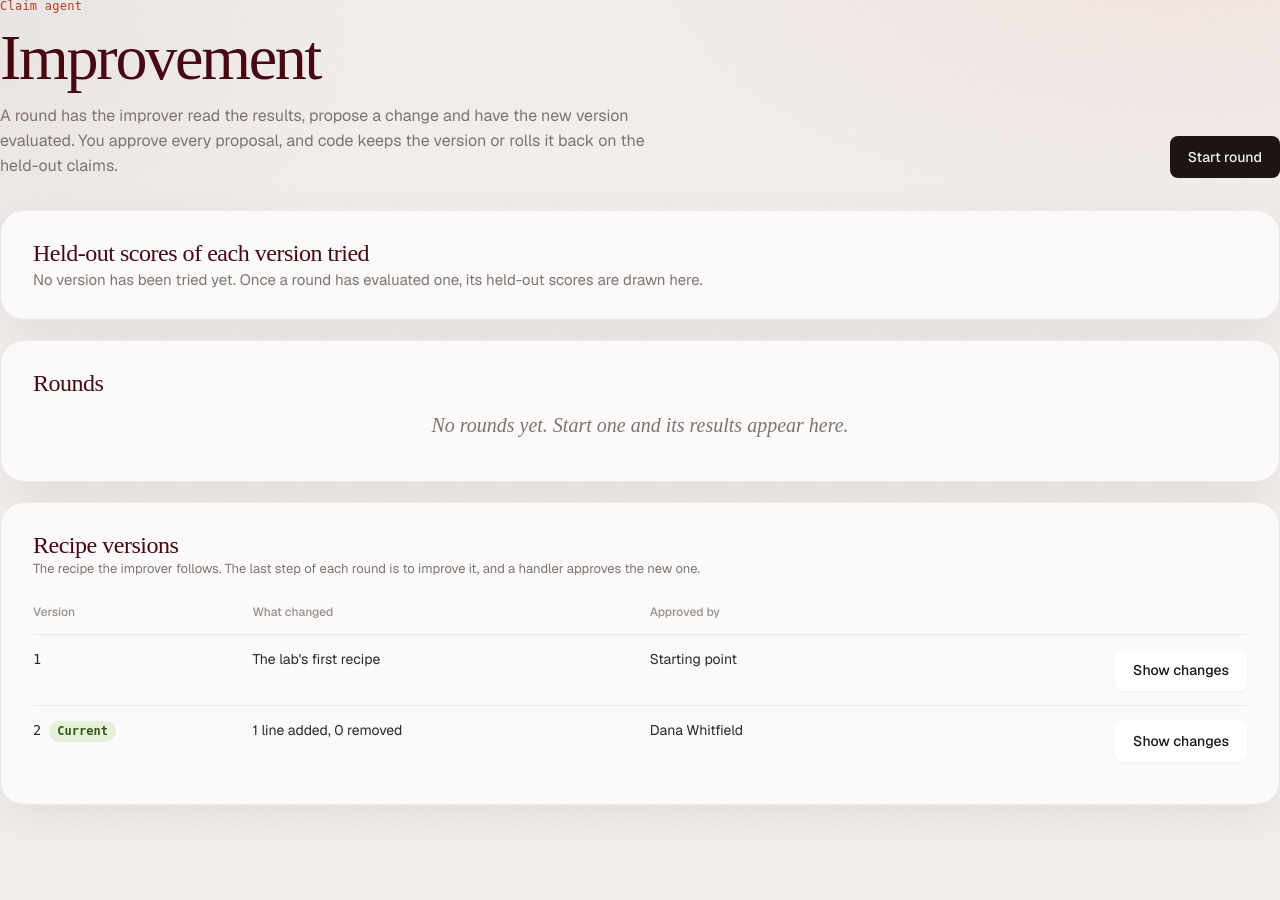
Improvement › starts a round after the confirmation
The image size is (1280, 900).
Later steps or results of the test are not shown.
Click the button "Start round".
click(1225, 157)  # box [1170, 136, 1279, 178]
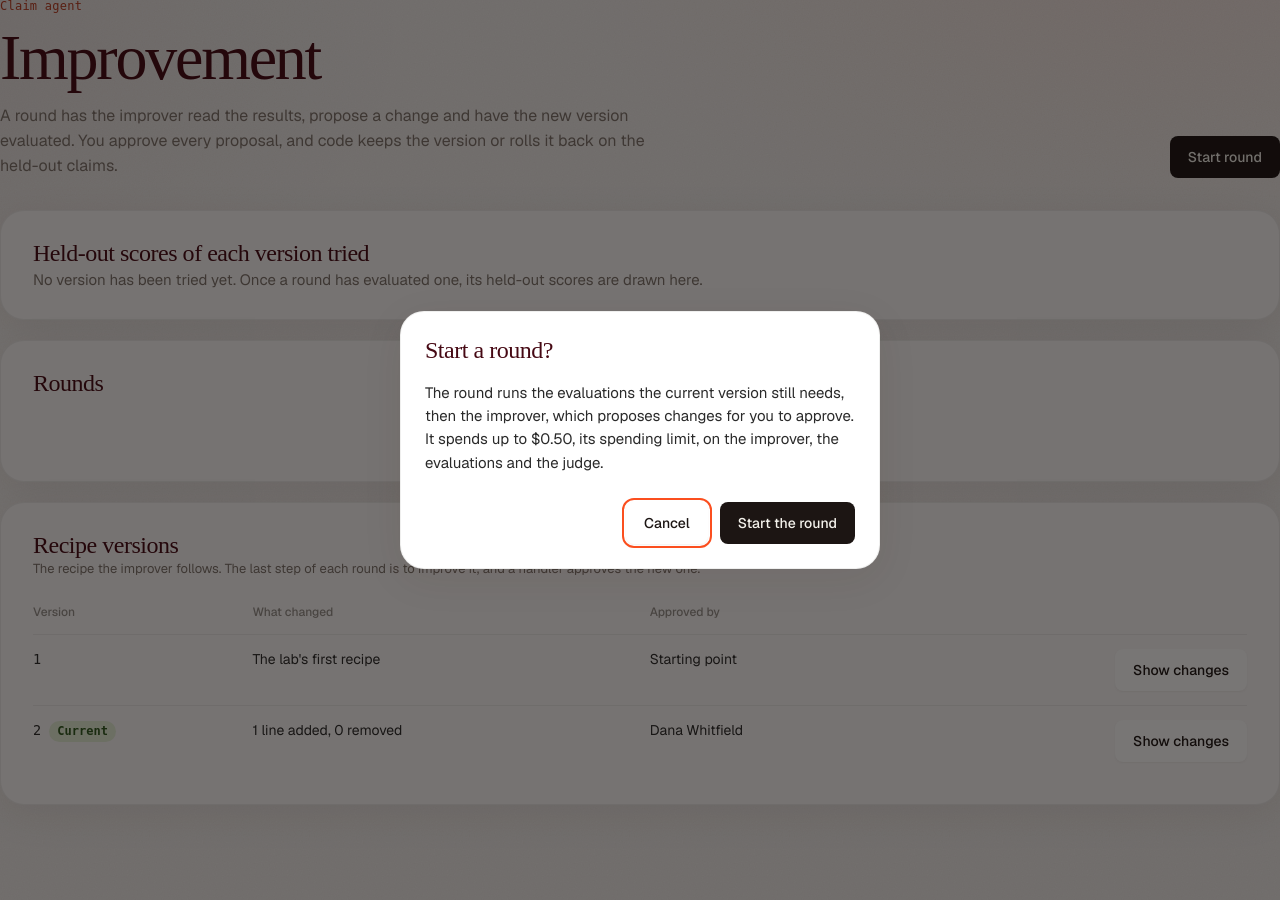
Expected: the text "up to $0.50" is shown, [425, 381, 855, 474]
